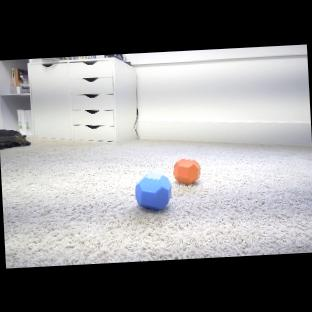V5_BLUE: (134, 171, 172, 212)
V5_RED: (173, 157, 202, 185)
